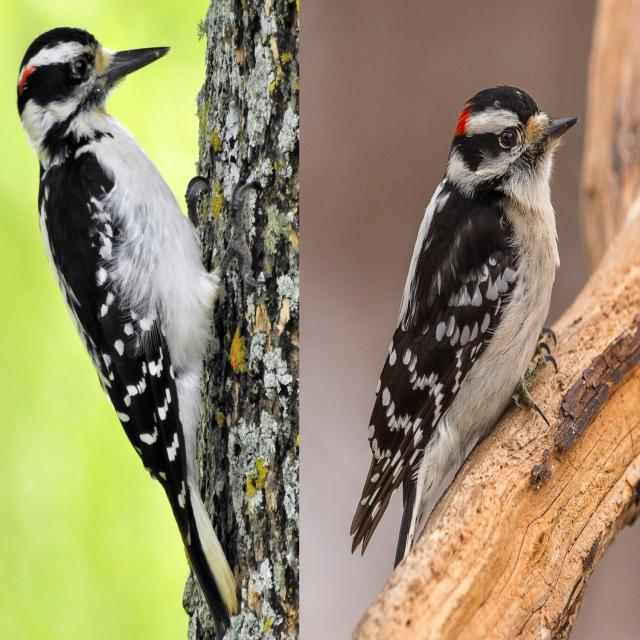Woodpecker: (10, 20, 251, 628), (349, 75, 580, 564)
